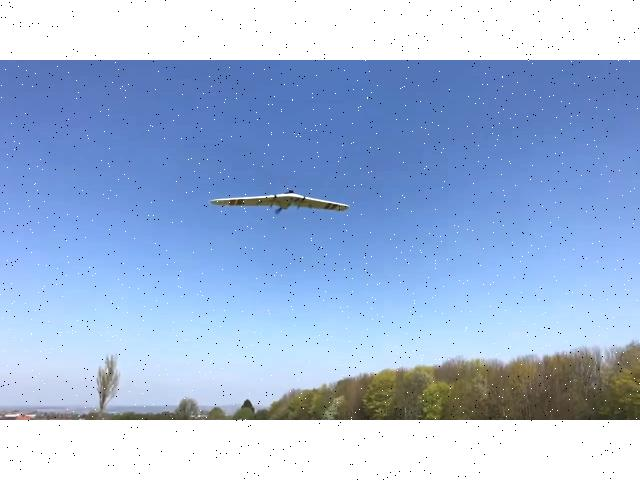Anti-Drone: (208, 188, 350, 212)
